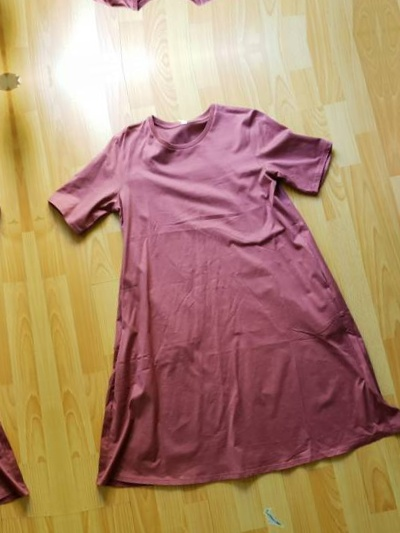Dress: (13, 76, 400, 530), (0, 125, 68, 533), (0, 0, 359, 38), (399, 23, 400, 478), (0, 0, 1, 87)
